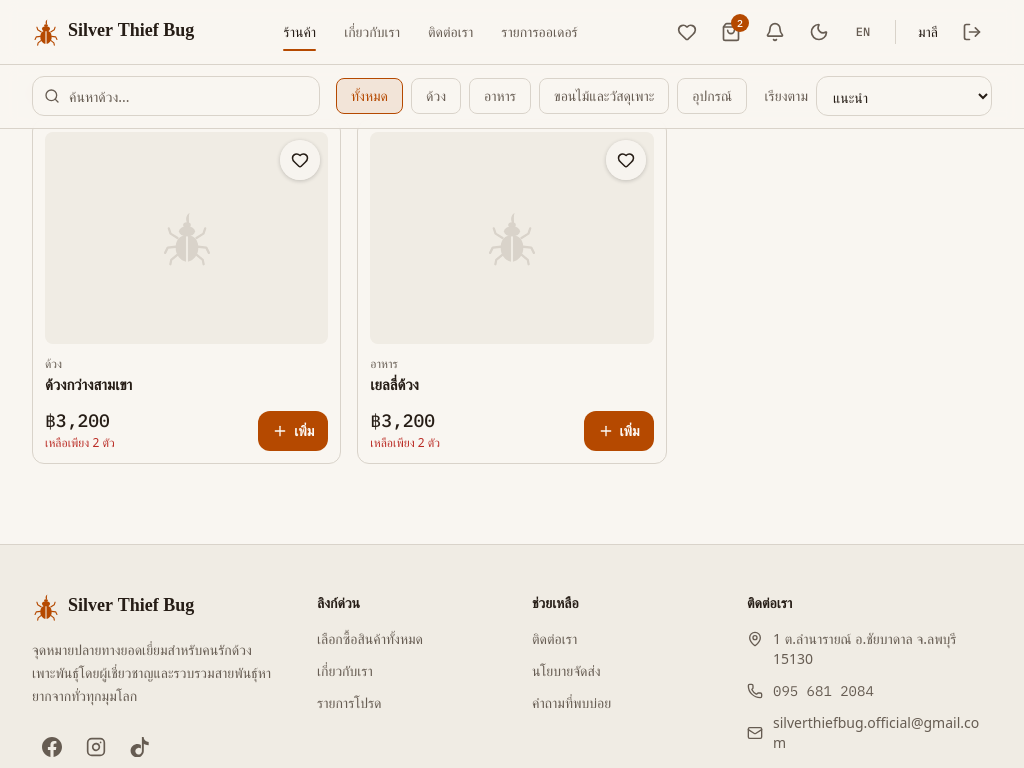
Test: Cart and Favorites belong to signed-in Customers › the product window says so too, and stays open
The image size is (1024, 768).
(page scrolled)
Expected: the link "รายการออเดอร์" is shown, left=501, top=22, right=578, bottom=41
Step 1. Click the button "ด้วงกว่างสามเขา" → (89, 385), box left=45, top=374, right=132, bottom=395
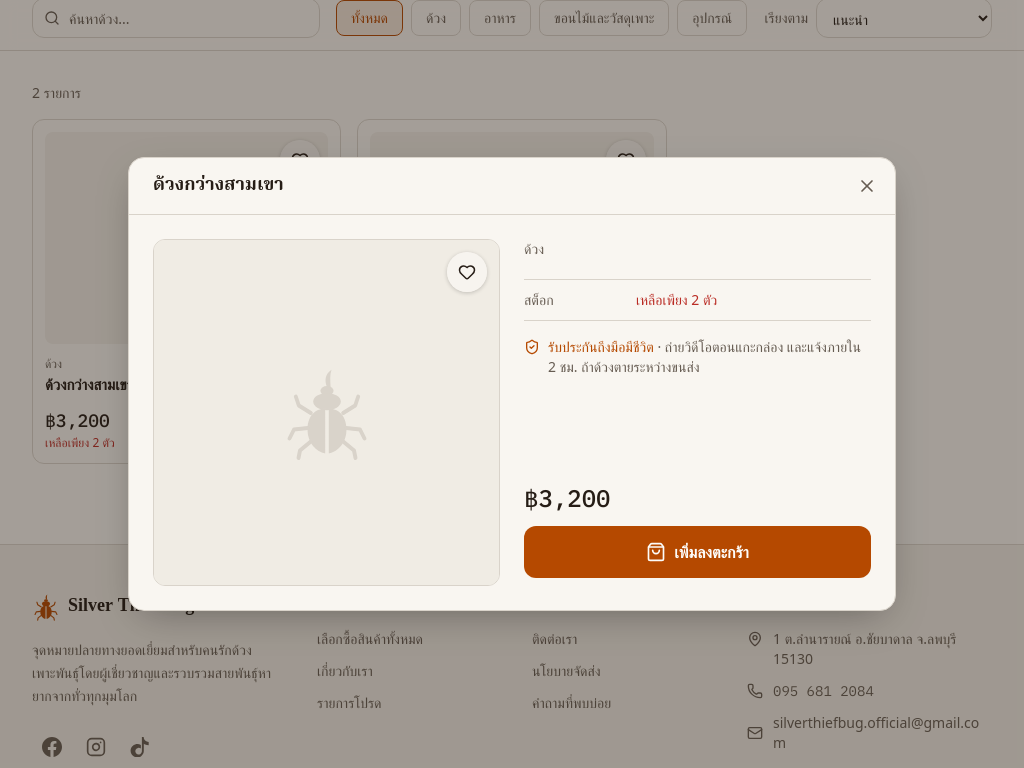
Step 2. Click the button "เพิ่มลงตะกร้า" → (698, 552), box left=524, top=526, right=871, bottom=578
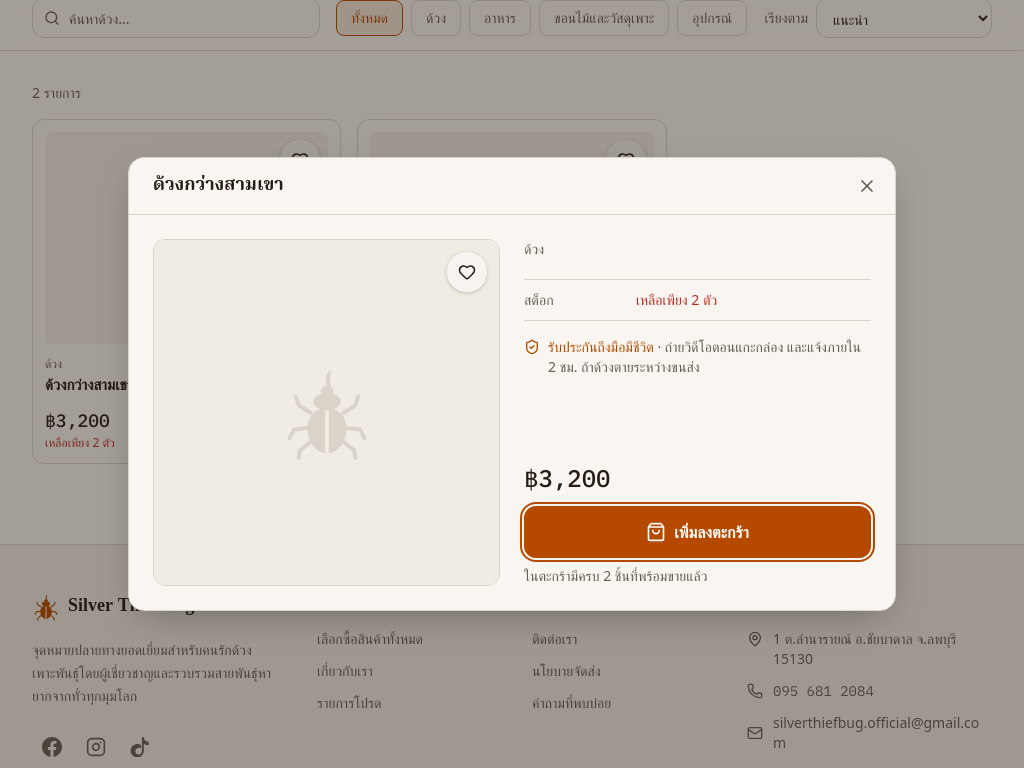
Now the text "ในตะกร้ามีครบ 2 ชิ้นที่พร้อมขายแล้ว" is shown, box left=524, top=566, right=707, bottom=585
